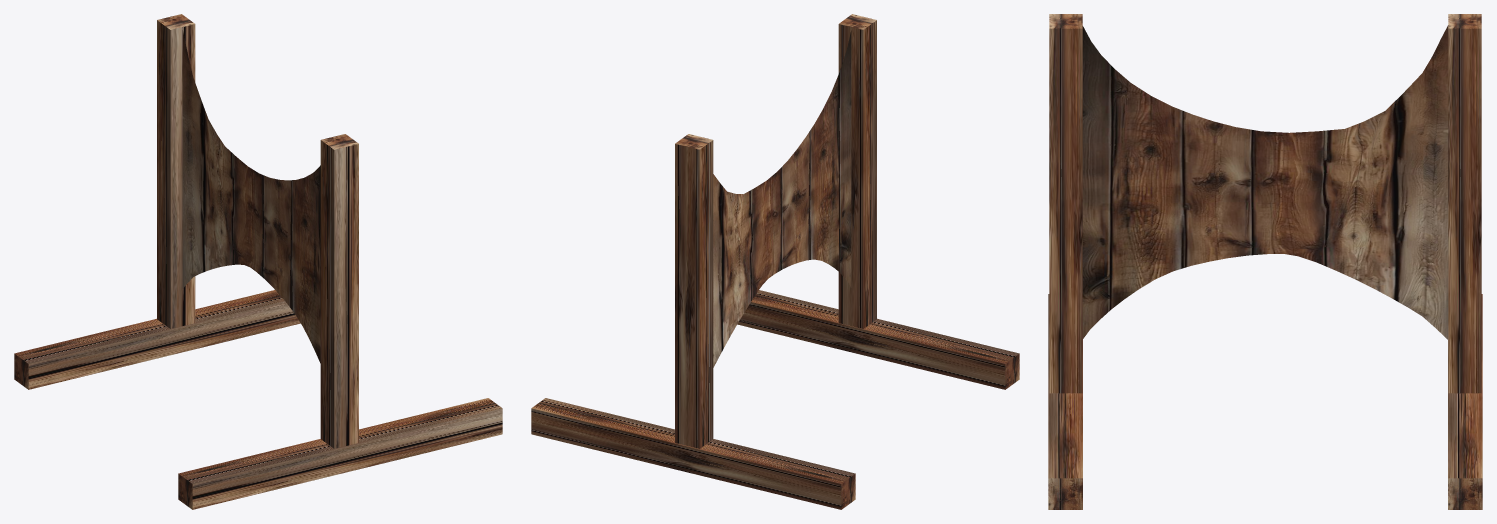
Rendered from Yliali3D.glb.
3 renders of one model, left to right at view 1: azimuth 30°, elevation 25°; view 2: azimuth 150°, elevation 25°; view 3: azimuth 270°, elevation 25°, orthographic. The views are drawn at different scales.
Visible parts, largest first — view 1: Cube.003; view 2: Cube.003; view 3: Cube.003.
Part boxes in pixels (x1,y1,x2,y2): Cube.003: [14, 14, 502, 509]; Cube.003: [531, 14, 1019, 509]; Cube.003: [1048, 14, 1482, 509].
Size of the model in its own units: 1.25 by 1.25 by 1.24.
Materials: 1 (1 with a texture image).
